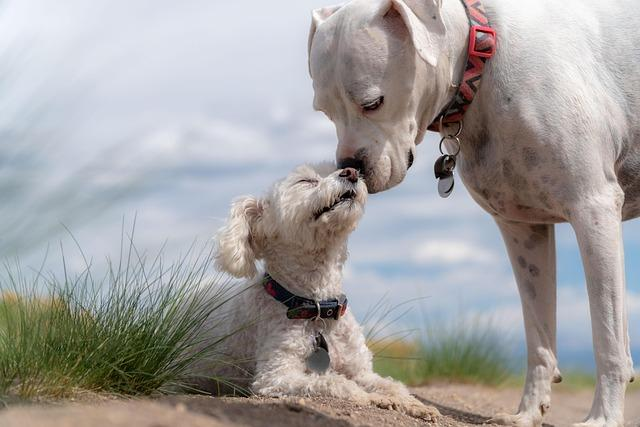Non_Gorille: (81, 0, 640, 427)
